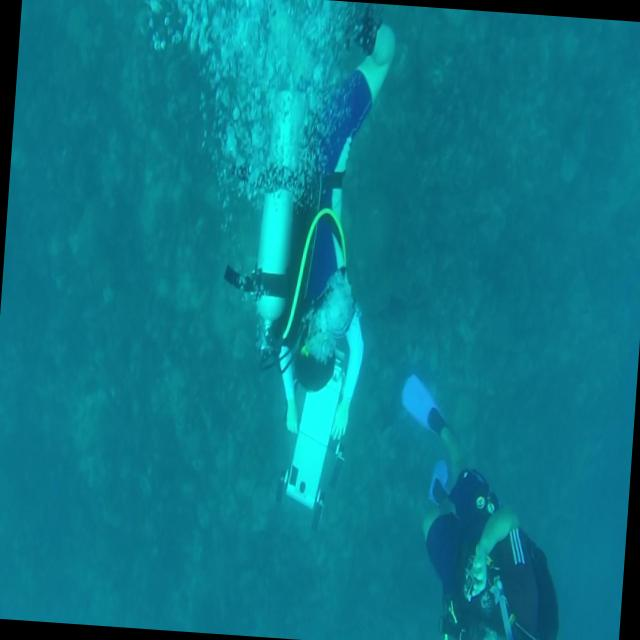human: (211, 0, 398, 449), (383, 372, 576, 640)
